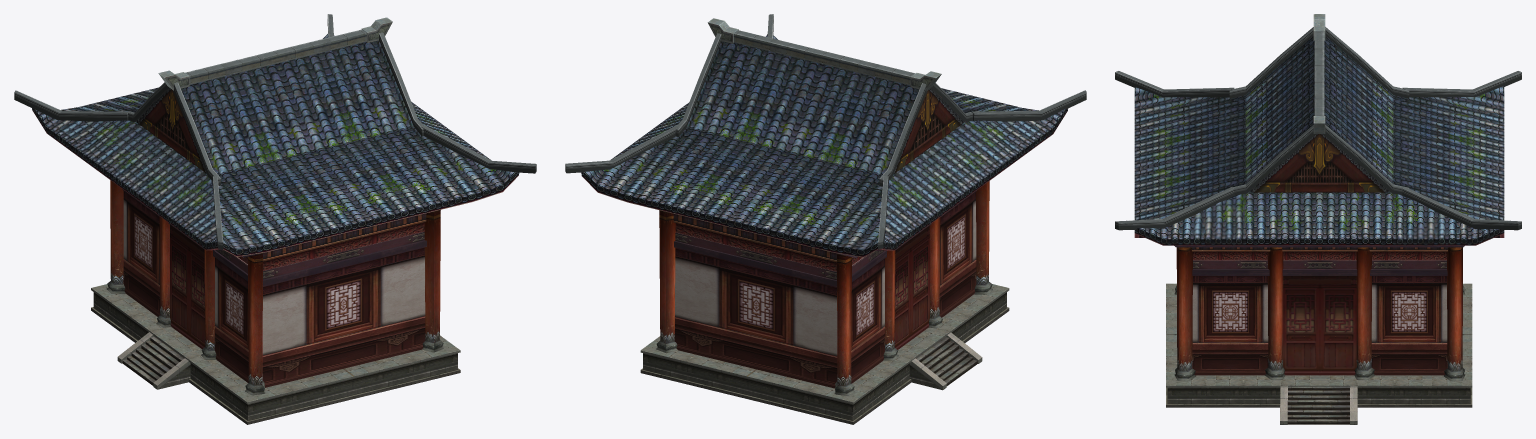
File: Maincity06_Building_mj02.FBX
3 views of the same model, side by side, from view 1: azimuth 30°, elevation 25°; view 2: azimuth 150°, elevation 25°; view 3: azimuth 270°, elevation 25° (orthographic). The views are drawn at different scales.
Parts seen in each view (by area): view 1: Maincity06_Building_mj02; view 2: Maincity06_Building_mj02; view 3: Maincity06_Building_mj02.
Part boxes in pixels (<box>): Maincity06_Building_mj02: <box>14,14,536,424</box>; Maincity06_Building_mj02: <box>565,14,1086,424</box>; Maincity06_Building_mj02: <box>1115,14,1521,424</box>.
Bounding box in the file's own units: 710 × 627 × 803.
